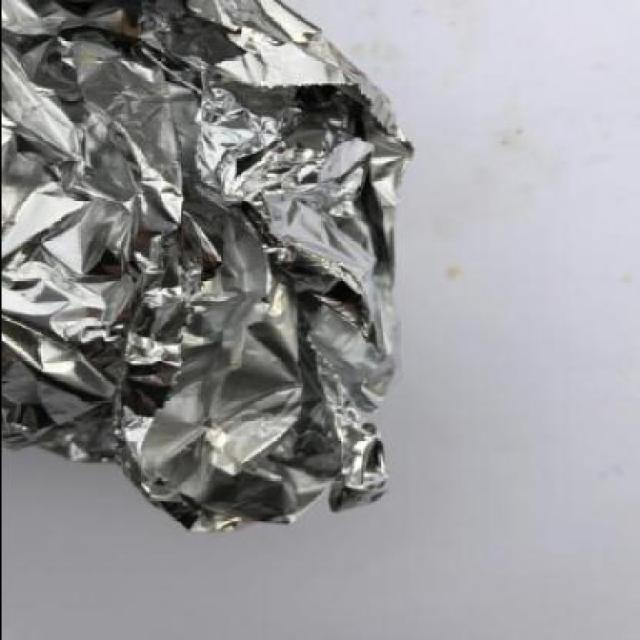METAL: (1, 0, 415, 532)
